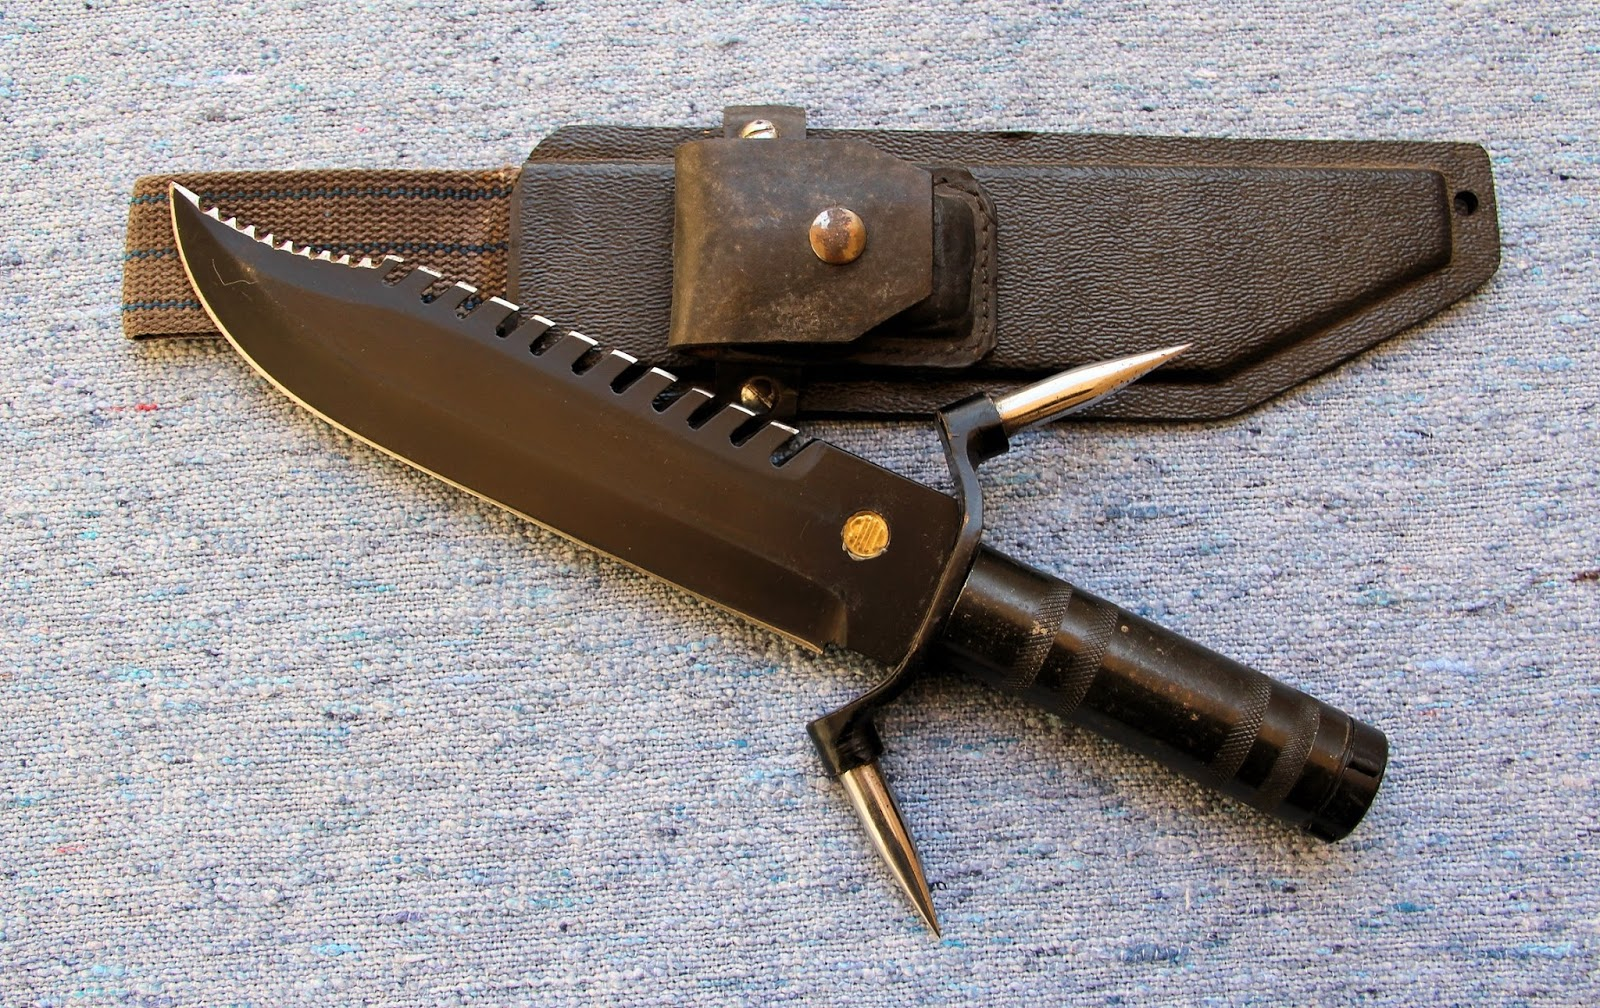knife: (153, 170, 928, 642)
